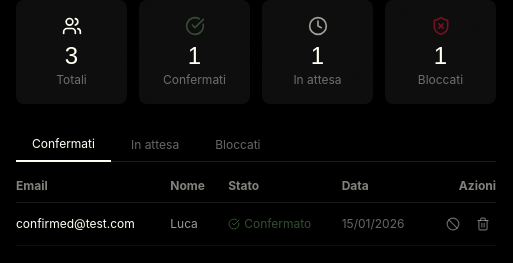
Test: SubscriberTable › switches tab to show pending subscribers
Click the button "In attesa" at (155, 145), box [115, 128, 195, 162]
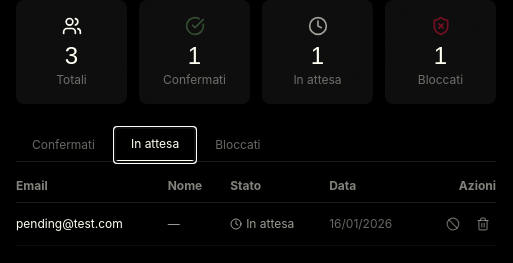
Now the text "confirmed@test.com" is gone
